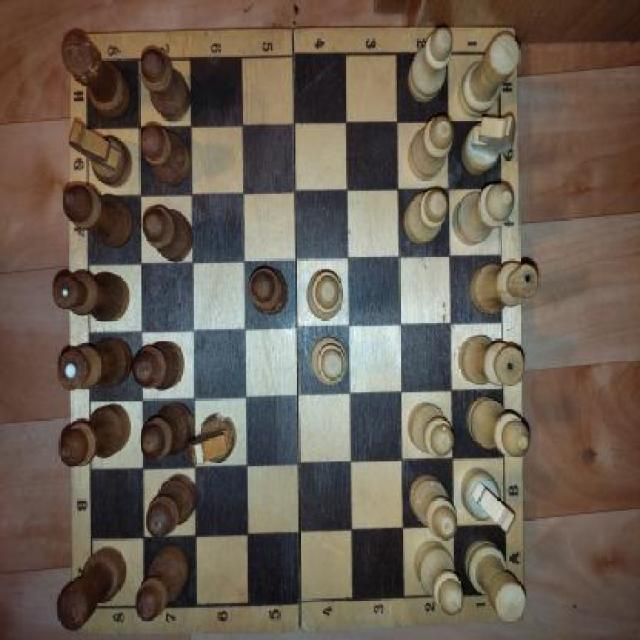chess-table-corners: (68, 30, 112, 96), (72, 572, 116, 634), (482, 558, 524, 622), (472, 26, 516, 86)
